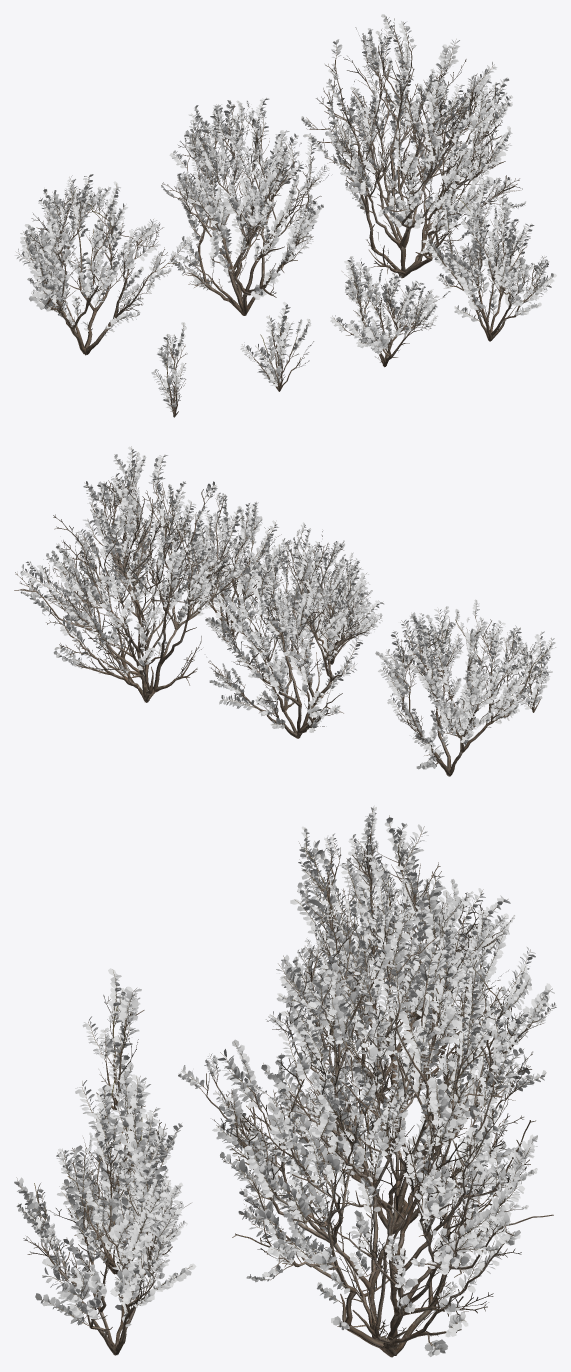
File: searsia_lucida_2k.fbx
3 views of the same model, one above another, from view 1: azimuth 30°, elevation 25°; view 2: azimuth 150°, elevation 25°; view 3: azimuth 270°, elevation 25° (orthographic). The views are drawn at different scales.
Visible parts, largest first — view 1: searsia_lucida_a_LOD0, searsia_lucida_b_LOD0, searsia_lucida_c_LOD0, searsia_lucida_d_LOD0, searsia_lucida_e_LOD0, searsia_lucida_f_LOD0, searsia_lucida_g_LOD0; view 2: searsia_lucida_a_LOD0, searsia_lucida_b_LOD0, searsia_lucida_c_LOD0, searsia_lucida_d_LOD0, searsia_lucida_e_LOD0, searsia_lucida_g_LOD0, searsia_lucida_f_LOD0; view 3: searsia_lucida_a_LOD0, searsia_lucida_b_LOD0, searsia_lucida_d_LOD0, searsia_lucida_c_LOD0, searsia_lucida_e_LOD0, searsia_lucida_g_LOD0, searsia_lucida_f_LOD0.
Boxes of the visible parts, x1,y1,x2,y2 form: searsia_lucida_a_LOD0: (301, 14, 526, 278); searsia_lucida_b_LOD0: (161, 98, 329, 315); searsia_lucida_c_LOD0: (15, 174, 196, 355); searsia_lucida_d_LOD0: (422, 179, 556, 341); searsia_lucida_e_LOD0: (330, 256, 450, 367); searsia_lucida_f_LOD0: (240, 301, 313, 391); searsia_lucida_g_LOD0: (151, 322, 187, 417); searsia_lucida_a_LOD0: (14, 446, 268, 702); searsia_lucida_b_LOD0: (205, 522, 372, 738); searsia_lucida_c_LOD0: (375, 599, 555, 776); searsia_lucida_d_LOD0: (176, 494, 294, 636); searsia_lucida_e_LOD0: (283, 566, 384, 664); searsia_lucida_g_LOD0: (509, 630, 552, 712); searsia_lucida_f_LOD0: (400, 612, 463, 682); searsia_lucida_a_LOD0: (178, 951, 553, 1357); searsia_lucida_b_LOD0: (266, 877, 556, 1234); searsia_lucida_d_LOD0: (14, 1107, 196, 1355); searsia_lucida_c_LOD0: (276, 807, 515, 1111); searsia_lucida_e_LOD0: (48, 1071, 182, 1274); searsia_lucida_g_LOD0: (82, 968, 144, 1109); searsia_lucida_f_LOD0: (75, 1076, 164, 1191).
Bounding box in the file's own units: 478 × 234 × 284.
3 materials, 2 textured.
